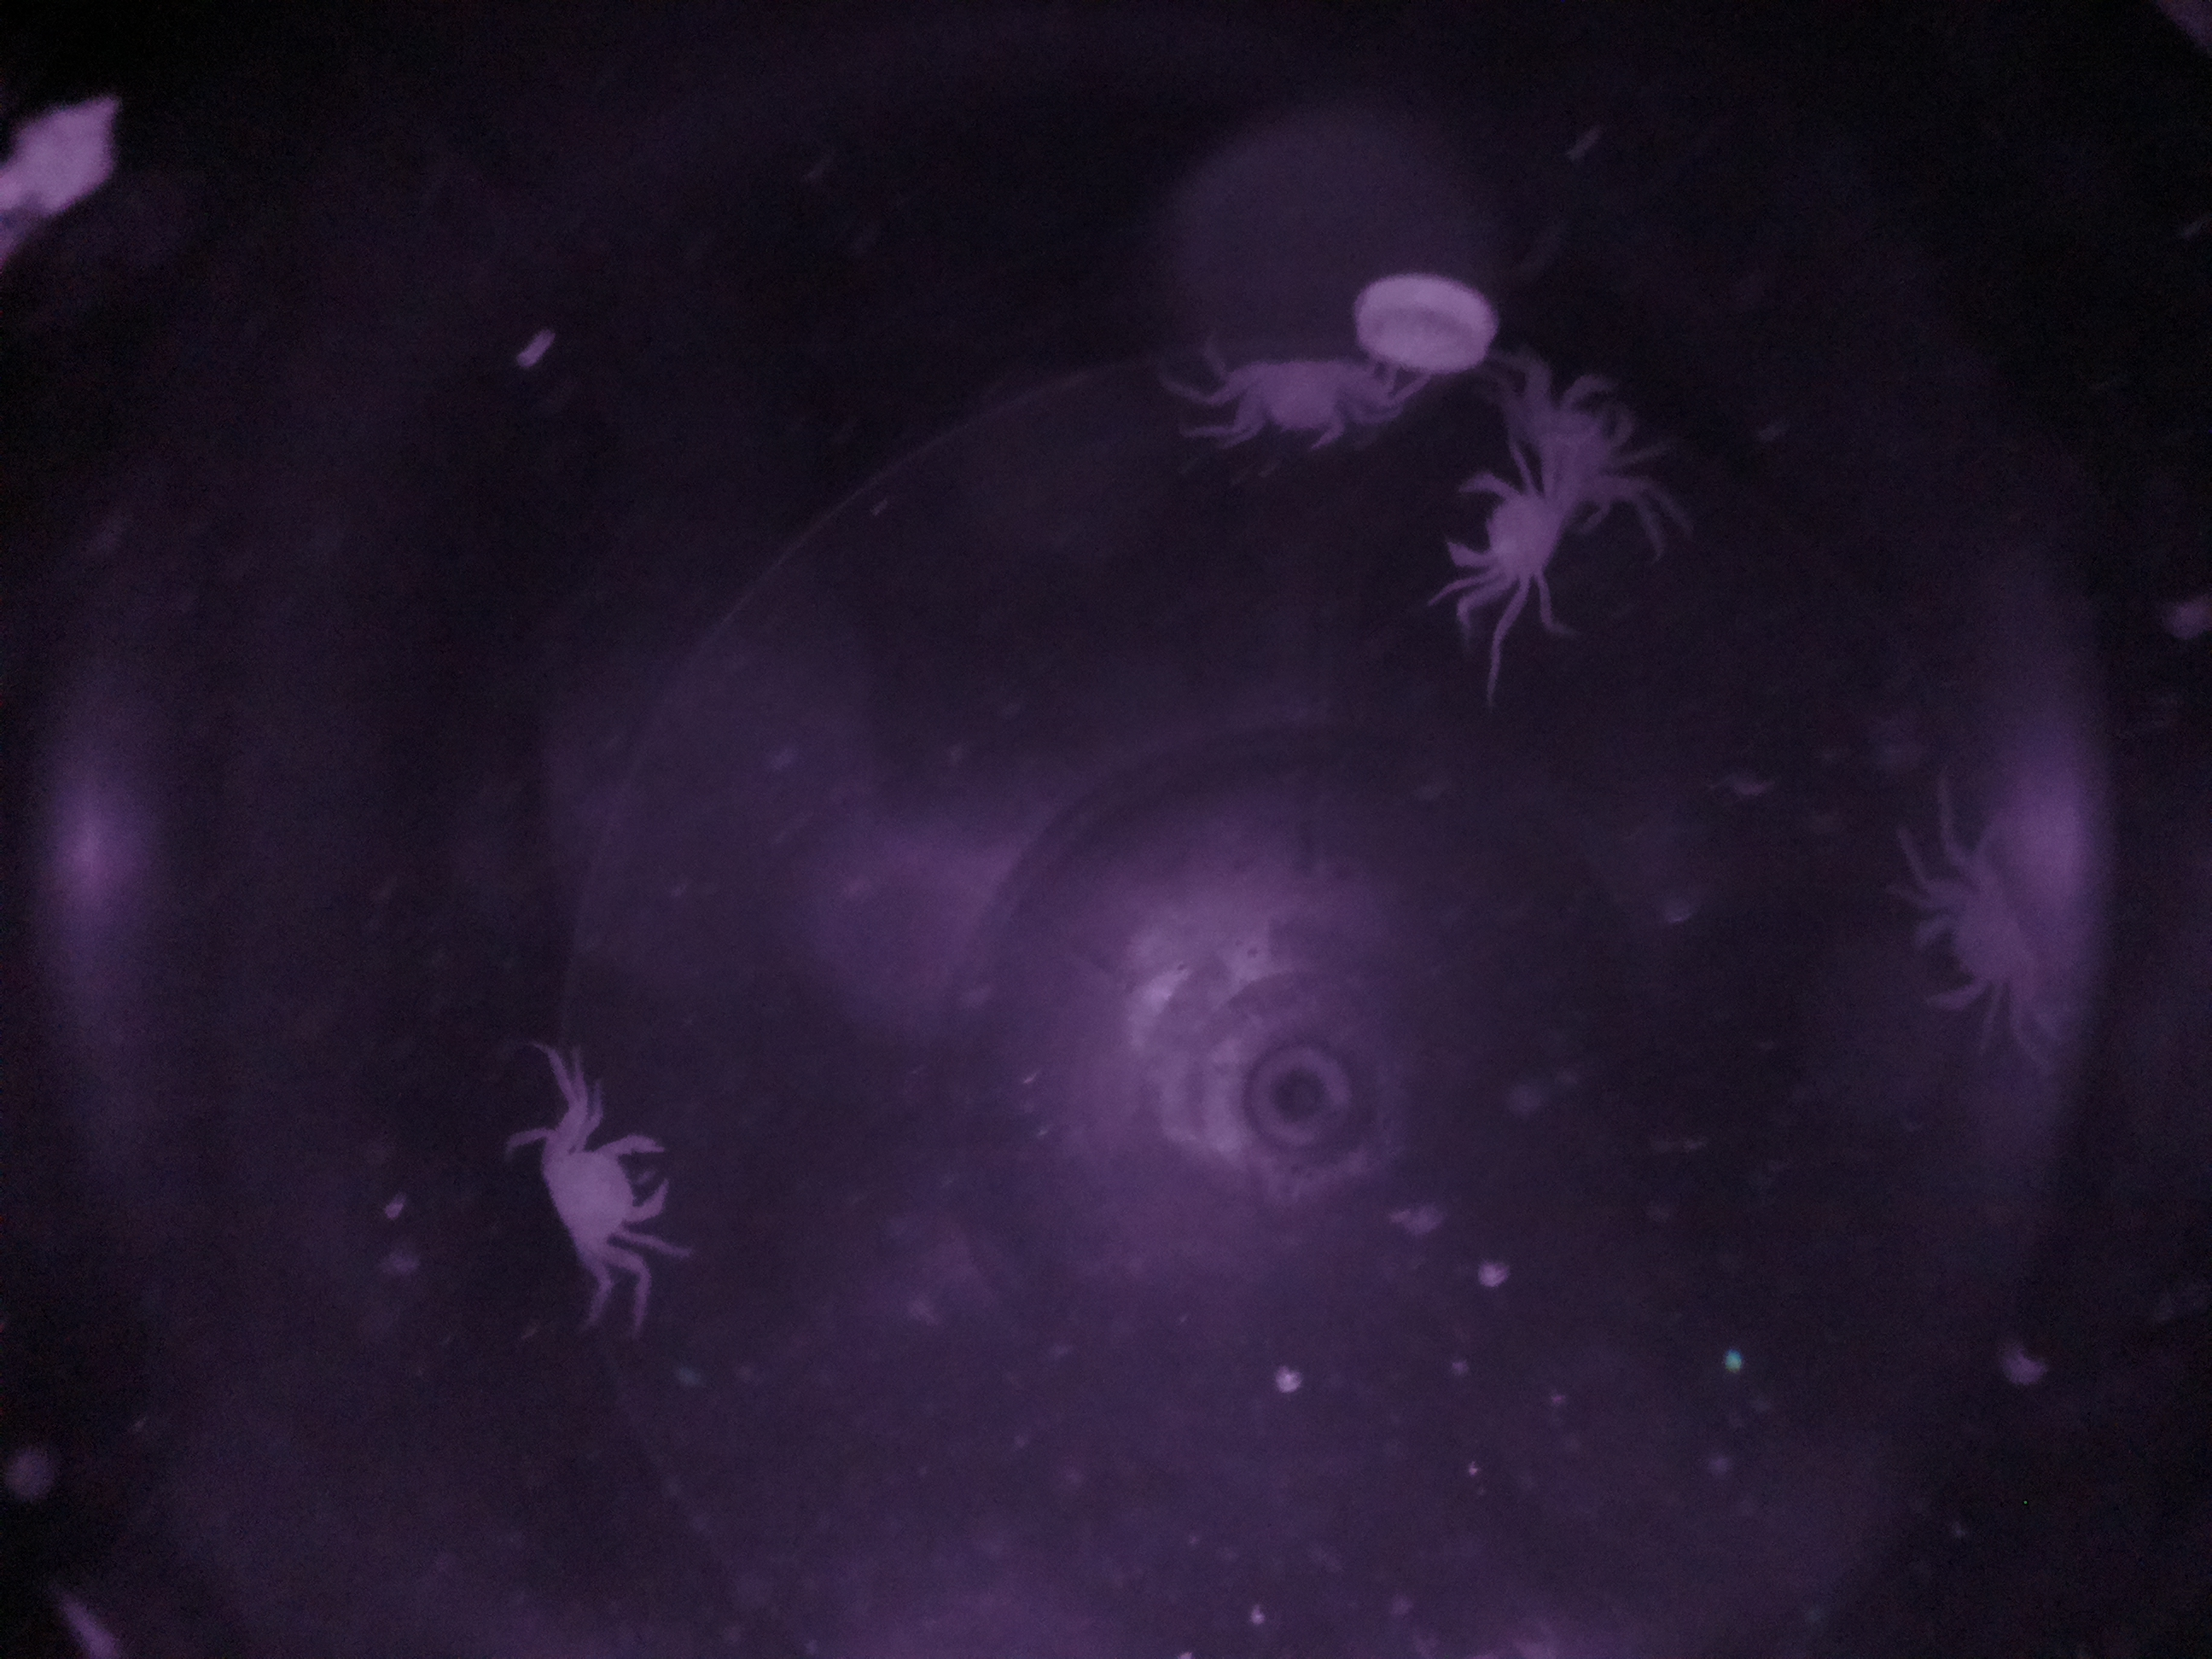Crab: (1892, 849, 2067, 1039), (1179, 331, 1397, 469), (528, 1108, 691, 1283), (1425, 448, 1583, 612)
